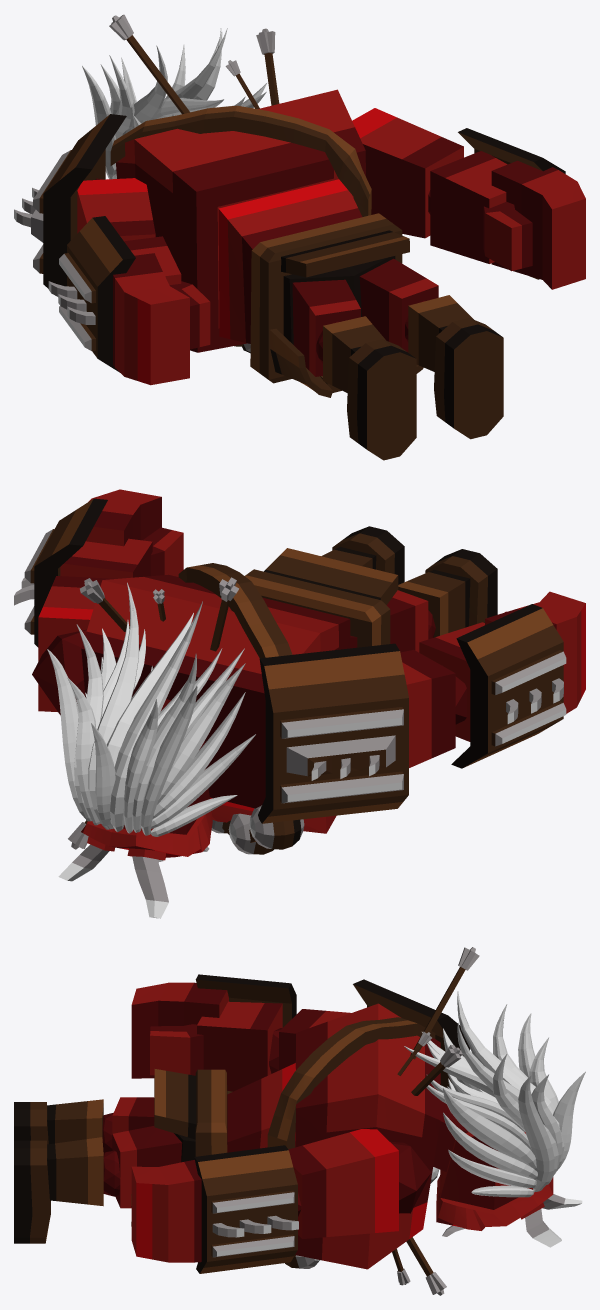
The model's file is Demon.fbx.
3 renders of one model, top to bottom at view 1: azimuth 30°, elevation 25°; view 2: azimuth 150°, elevation 25°; view 3: azimuth 270°, elevation 25°, orthographic. The views are drawn at different scales.
Visible parts, largest first — view 1: Boss; view 2: Boss; view 3: Boss.
Part boxes in pixels (box(x1,y1,x2,y2)): Boss: box(14, 14, 585, 460); Boss: box(14, 489, 585, 918); Boss: box(14, 947, 585, 1295).
Bounding box in the file's own units: 20479 × 12661 × 22562.
